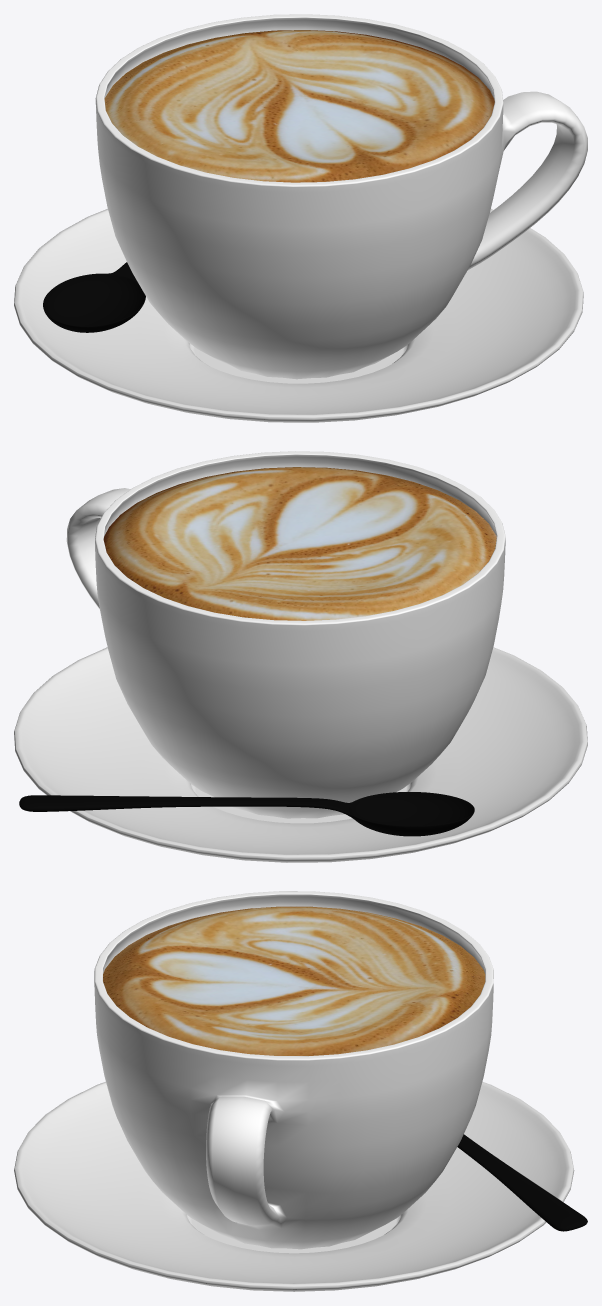
The model's file is xcup_of_coffee1.glb.
3 views of the same model, one above another, from view 1: azimuth 30°, elevation 25°; view 2: azimuth 150°, elevation 25°; view 3: azimuth 270°, elevation 25° (orthographic). The views are drawn at different scales.
Visible parts, largest first — view 1: polySurface2, pCylinder3, polySurface3, pSphere1; view 2: polySurface2, pCylinder3, polySurface3, pSphere1; view 3: polySurface2, pCylinder3, polySurface3, pSphere1.
Part boxes in pixels (bbox=[...]): polySurface2: bbox=[95, 14, 587, 379]; pCylinder3: bbox=[14, 209, 583, 422]; polySurface3: bbox=[104, 30, 494, 182]; pSphere1: bbox=[43, 262, 145, 332]; polySurface2: bbox=[66, 451, 505, 818]; pCylinder3: bbox=[14, 647, 587, 862]; polySurface3: bbox=[103, 467, 496, 620]; pSphere1: bbox=[19, 792, 474, 836]; polySurface2: bbox=[94, 891, 493, 1249]; pCylinder3: bbox=[14, 1081, 574, 1291]; polySurface3: bbox=[103, 906, 485, 1055]; pSphere1: bbox=[457, 1134, 587, 1231].
Size of the model in its own units: 0.0914 by 0.0436 by 0.0926.
4 materials, 3 textured.
